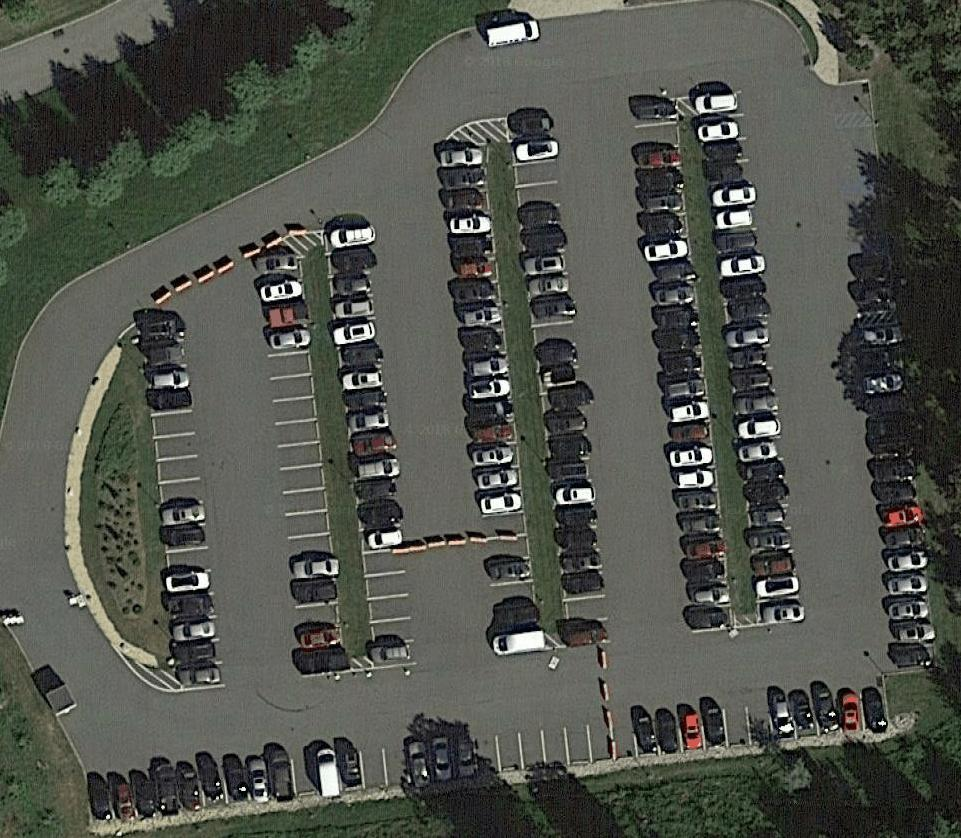parkingspot: (84, 682, 890, 827), (693, 89, 807, 628), (626, 96, 737, 635), (505, 112, 615, 650), (437, 142, 547, 657), (320, 224, 420, 672), (251, 253, 347, 679), (142, 313, 228, 692), (855, 325, 939, 673), (832, 122, 896, 318), (828, 78, 874, 118)
